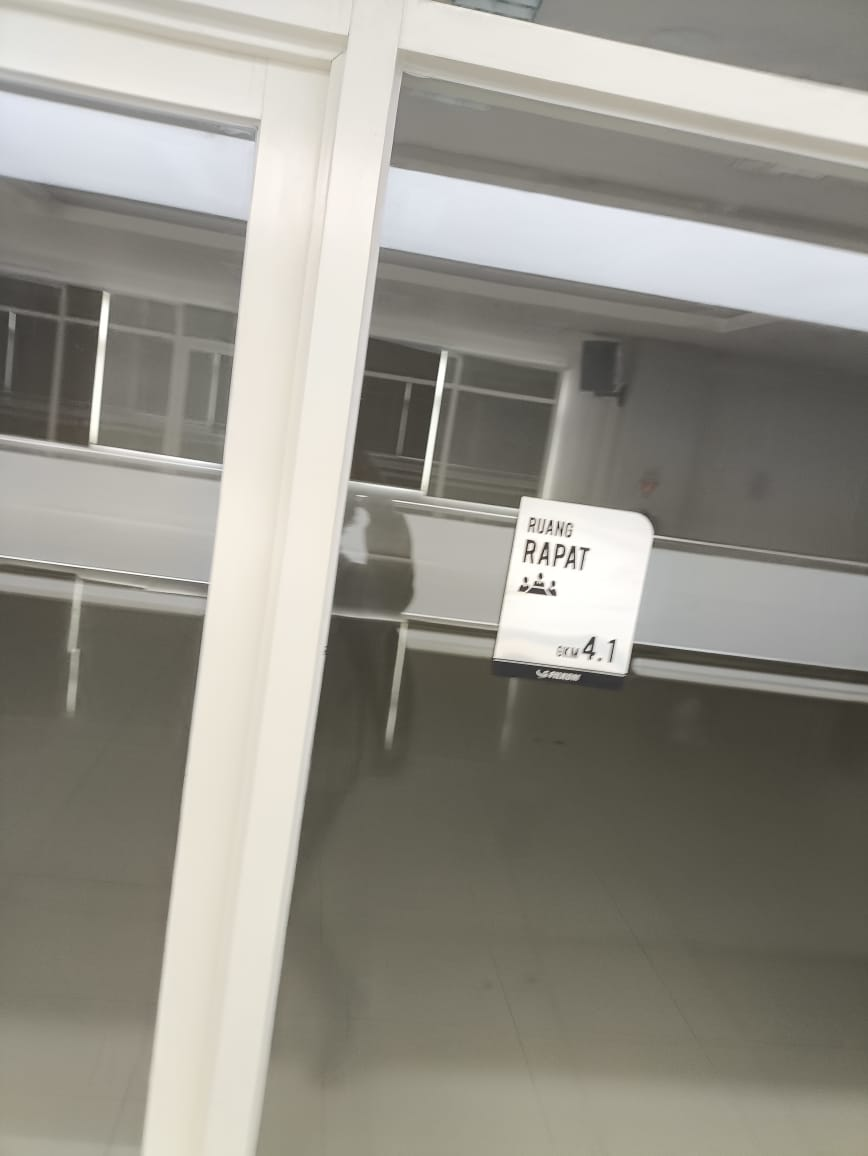ruang rapat: (479, 483, 661, 697)
